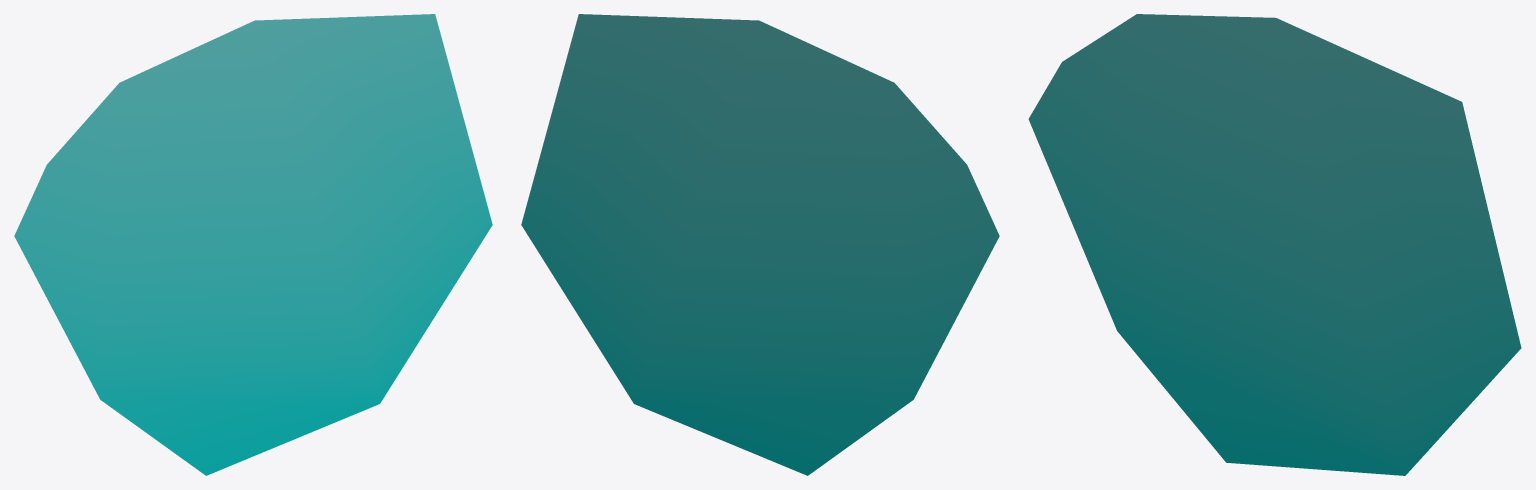
Rendered from Sage_ve3gbfoja_Mid_ve3gbfoja_VarC_LOD3.fbx.
The picture shows the model from 3 angles, left to right: view 1: azimuth 30°, elevation 25°; view 2: azimuth 150°, elevation 25°; view 3: azimuth 330°, elevation 25°; orthographic projection. The views are drawn at different scales.
Visible parts, largest first — view 1: _zddo_VarC_LOD5; view 2: _zddo_VarC_LOD5; view 3: _zddo_VarC_LOD5.
Part boxes in pixels (x1,y1,x2,y2): _zddo_VarC_LOD5: (14, 14, 492, 475); _zddo_VarC_LOD5: (521, 14, 999, 475); _zddo_VarC_LOD5: (1028, 14, 1521, 475).
Size of the model in its own units: 78.4 by 69.46 by 0.
